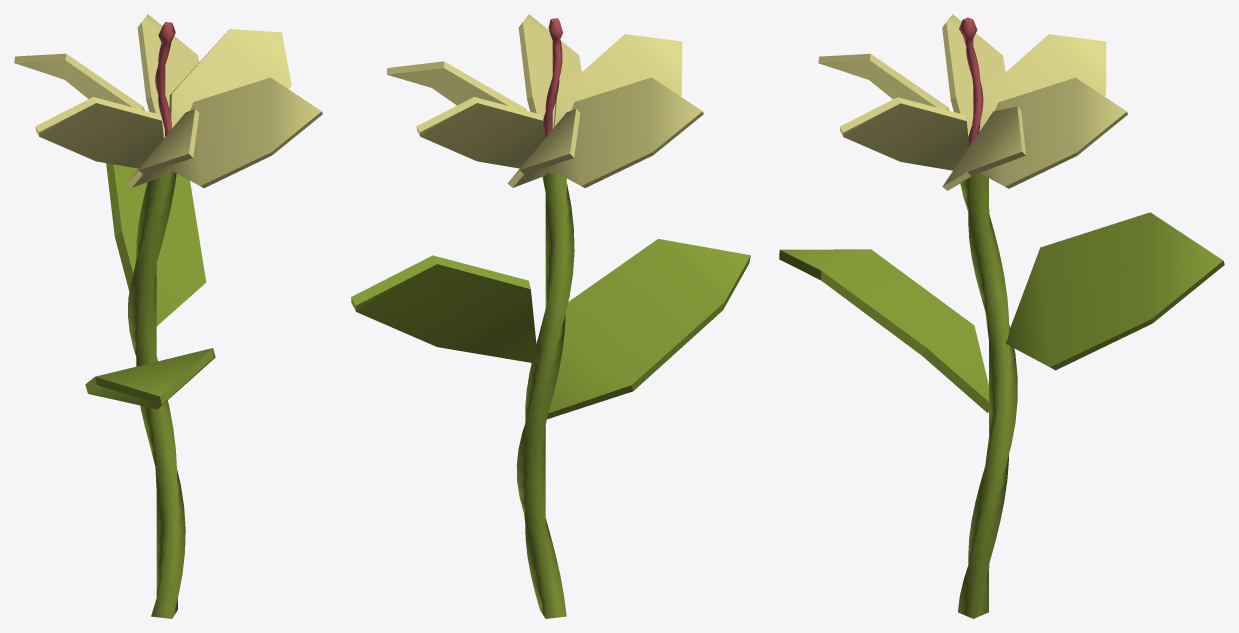
File: fleurJaune.fbx
3 renders of one model, left to right at view 1: azimuth 30°, elevation 25°; view 2: azimuth 150°, elevation 25°; view 3: azimuth 270°, elevation 25°, orthographic.
Parts seen in each view (by area): view 1: polySurface49; view 2: polySurface49; view 3: polySurface49.
Boxes of the visible parts, x1,y1,x2,y2 form: polySurface49: (14,14,322,618); polySurface49: (351,14,750,618); polySurface49: (779,14,1224,618).
Bounding box in the file's own units: 9.38 × 18.87 × 12.85.
